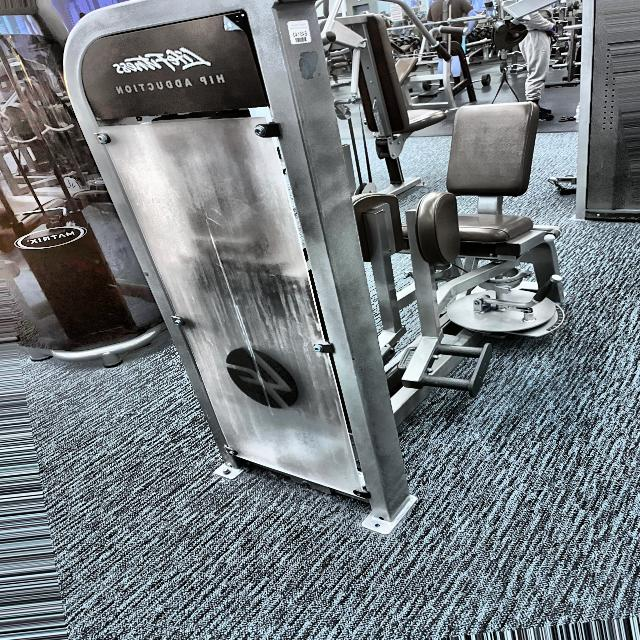hip_adduction_machine: (362, 51, 567, 412), (106, 65, 232, 117)
